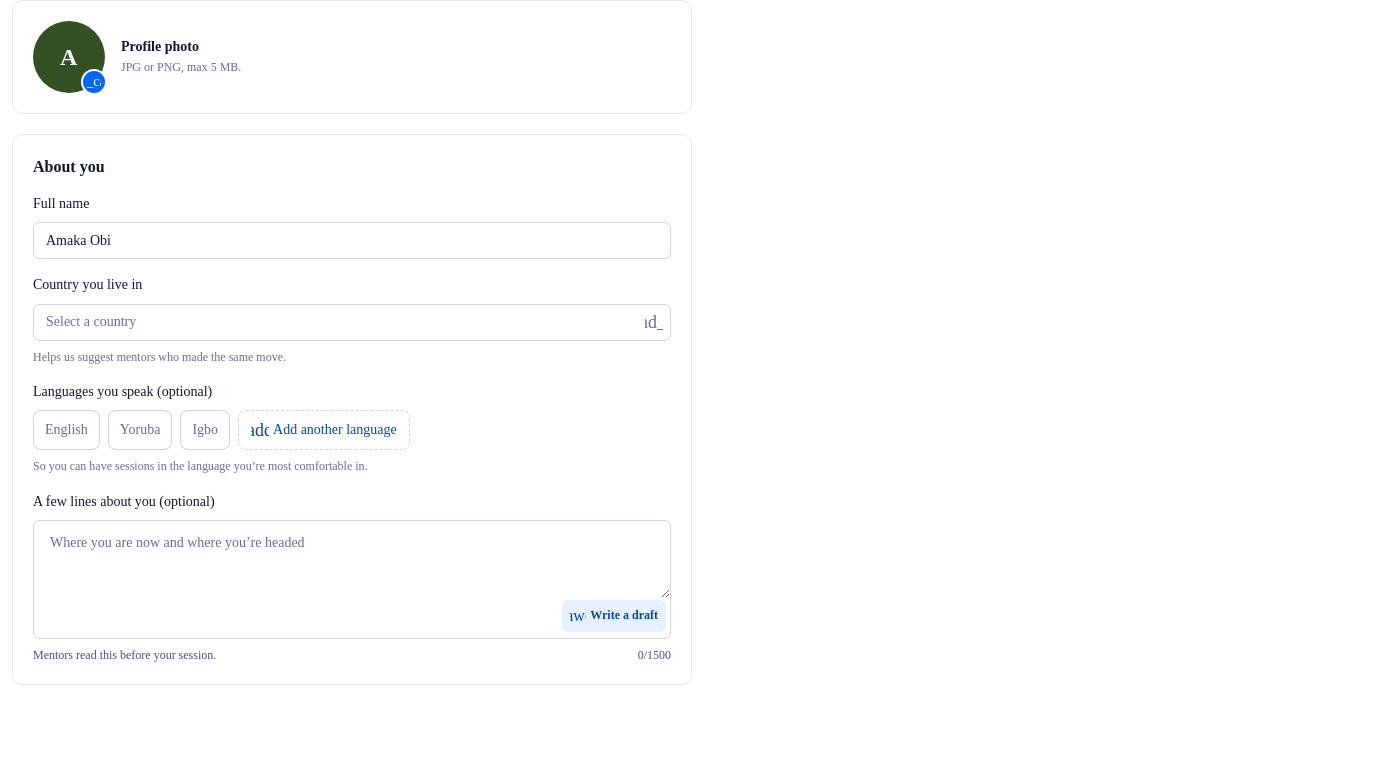
Test case: ProfilePanel › Save with gaps: the form line, an error on each field, focus on the first, nothing sent
Clear the field labelled "Full name" at (352, 241), box [33, 222, 671, 260]
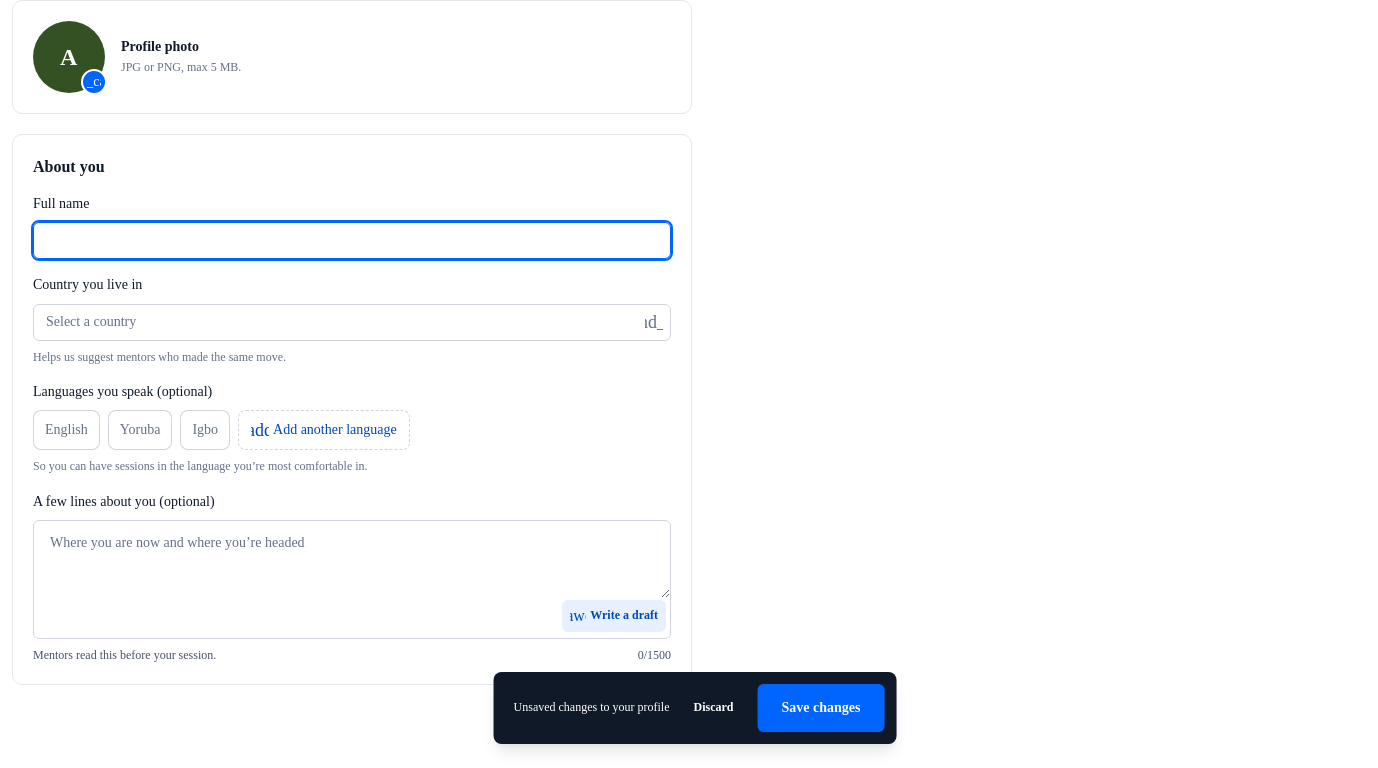
Click the button "Save changes" at (821, 708), box [758, 684, 884, 732]
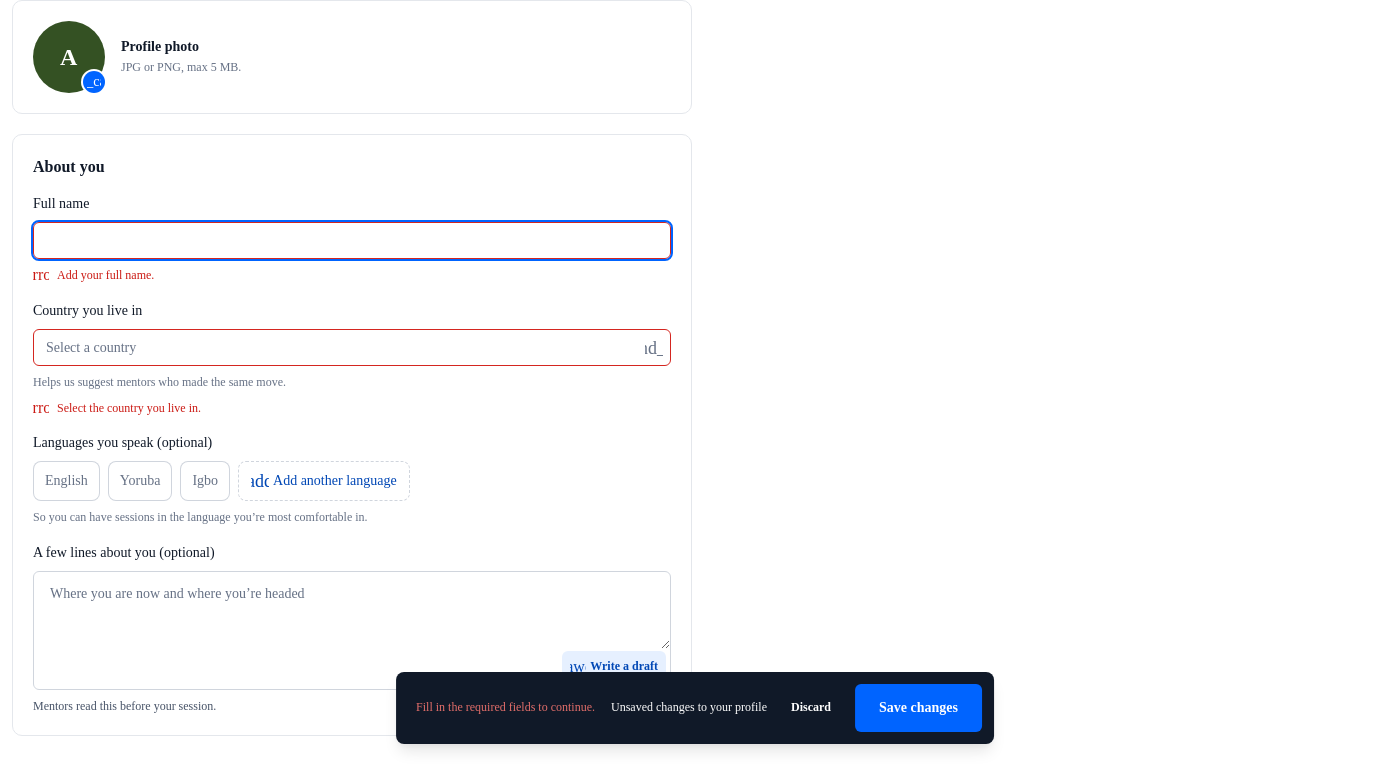
Result: the text "Add your full name." is shown at [57, 268, 154, 285]
Result: the text "Select the country you live in." is shown at [57, 400, 201, 417]
